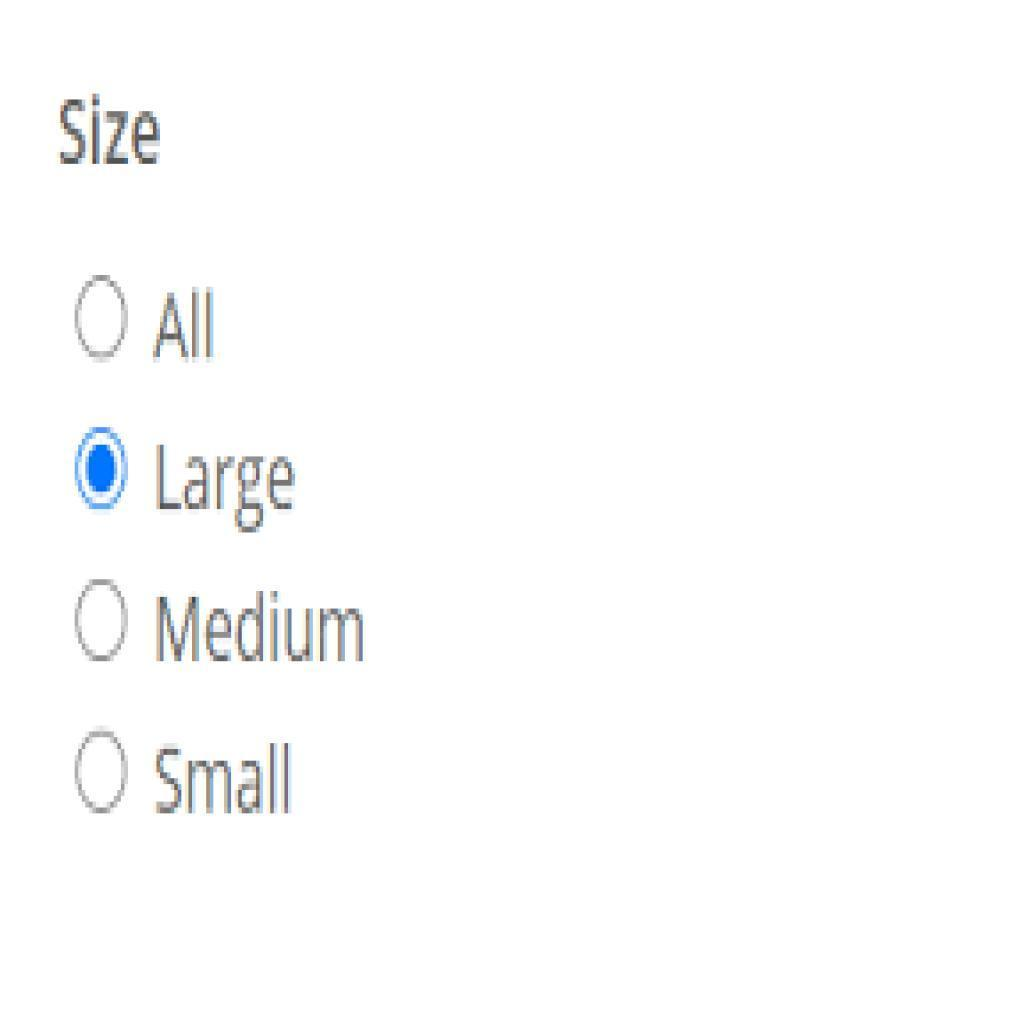radio: (74, 418, 136, 517), (71, 269, 132, 369), (73, 579, 136, 667), (76, 724, 131, 817)
